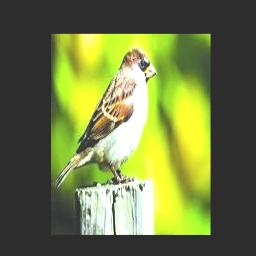Sparrow: (53, 48, 157, 189)
